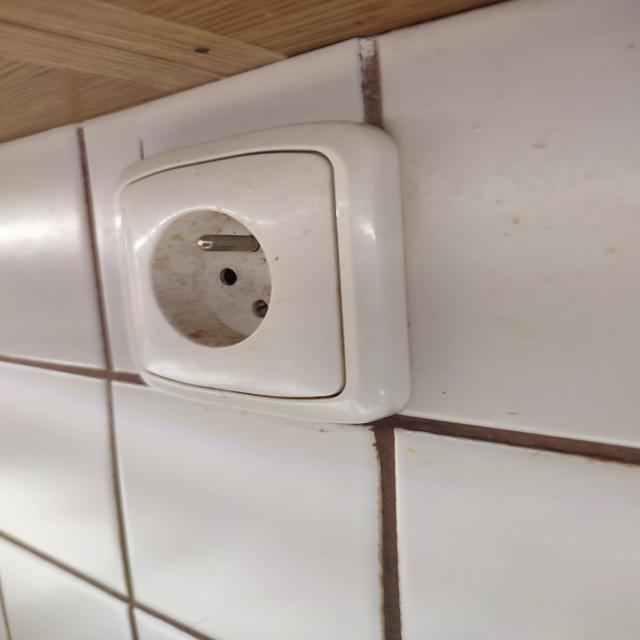house plug: (133, 178, 303, 372)
